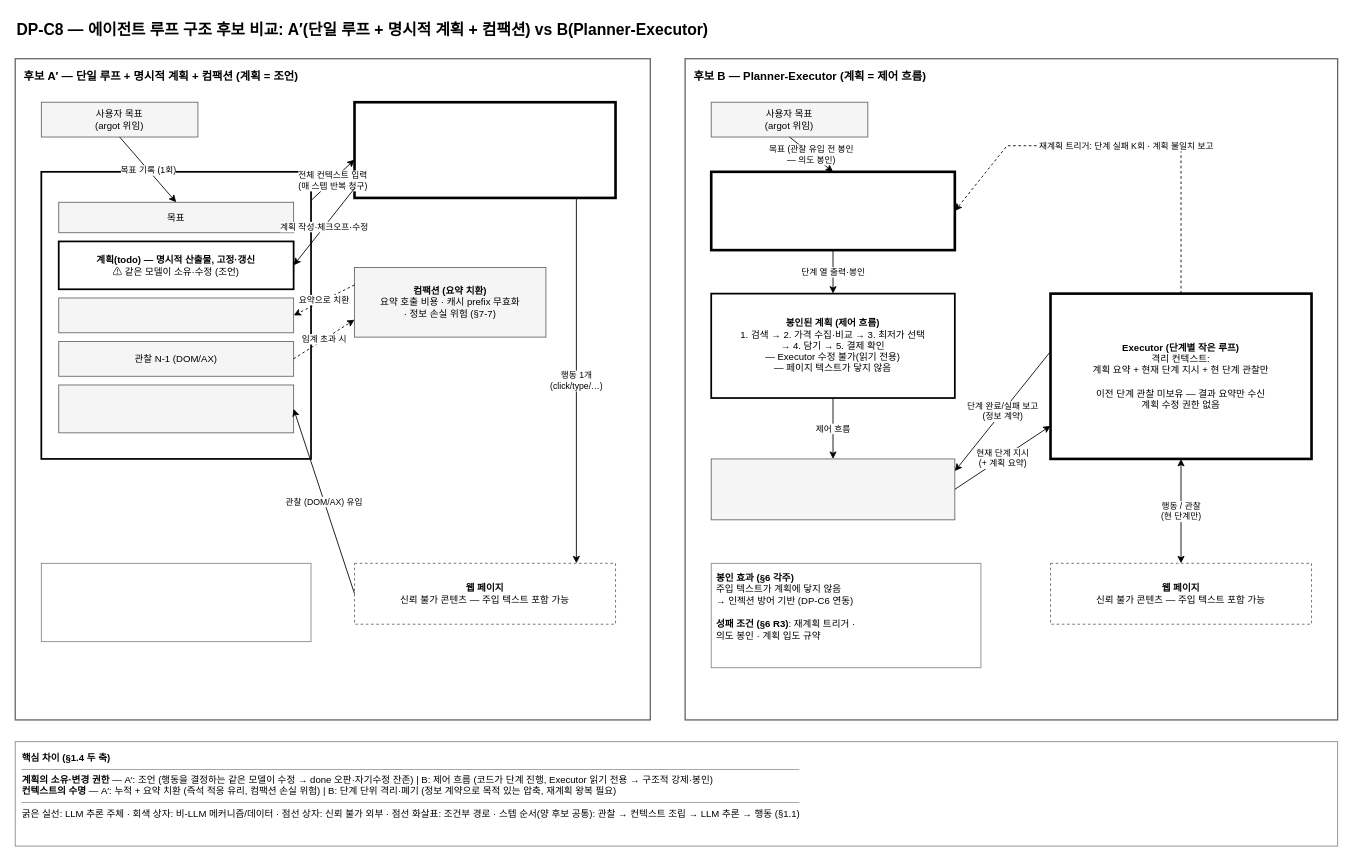
The diagram is 1354 pixels wide and 861 high, and some of its shapes have lost their labels. Here are the shapes that lost their labels. From the top down, the box of each, then its label:
(353, 100, 616, 199): 단일 LLM 루프 (3.5 Flash) 매 스텝: 전체 컨텍스트 입력 → 계획 체크오프/수정 + 다음 행동 1개
(709, 170, 956, 251): Planner (3.5 Flash, thinking↑) 목표 → 단계 열 분해 태스크당 1회 + 재계획 시
(40, 171, 311, 459): 단일 누적 컨텍스트
(58, 297, 294, 333): 요약 (과거 관찰의 치환본)
(58, 384, 294, 433): 관찰 N — 최신 (DOM/AX) ⚠ 주입 텍스트가 계획 수정 권한과 동일 컨텍스트
(710, 458, 955, 520): 단계 진행 오케스트레이션 (코드) 현재 단계 결정 — 건너뛰기 구조적 불가
(40, 562, 311, 642): 잔존 실패 양식 (§3) done 오판 · 계획 자기수정(합리화·주입 설득) · 컴팩션 손실 — 계획이 조언에 머무는 대가
